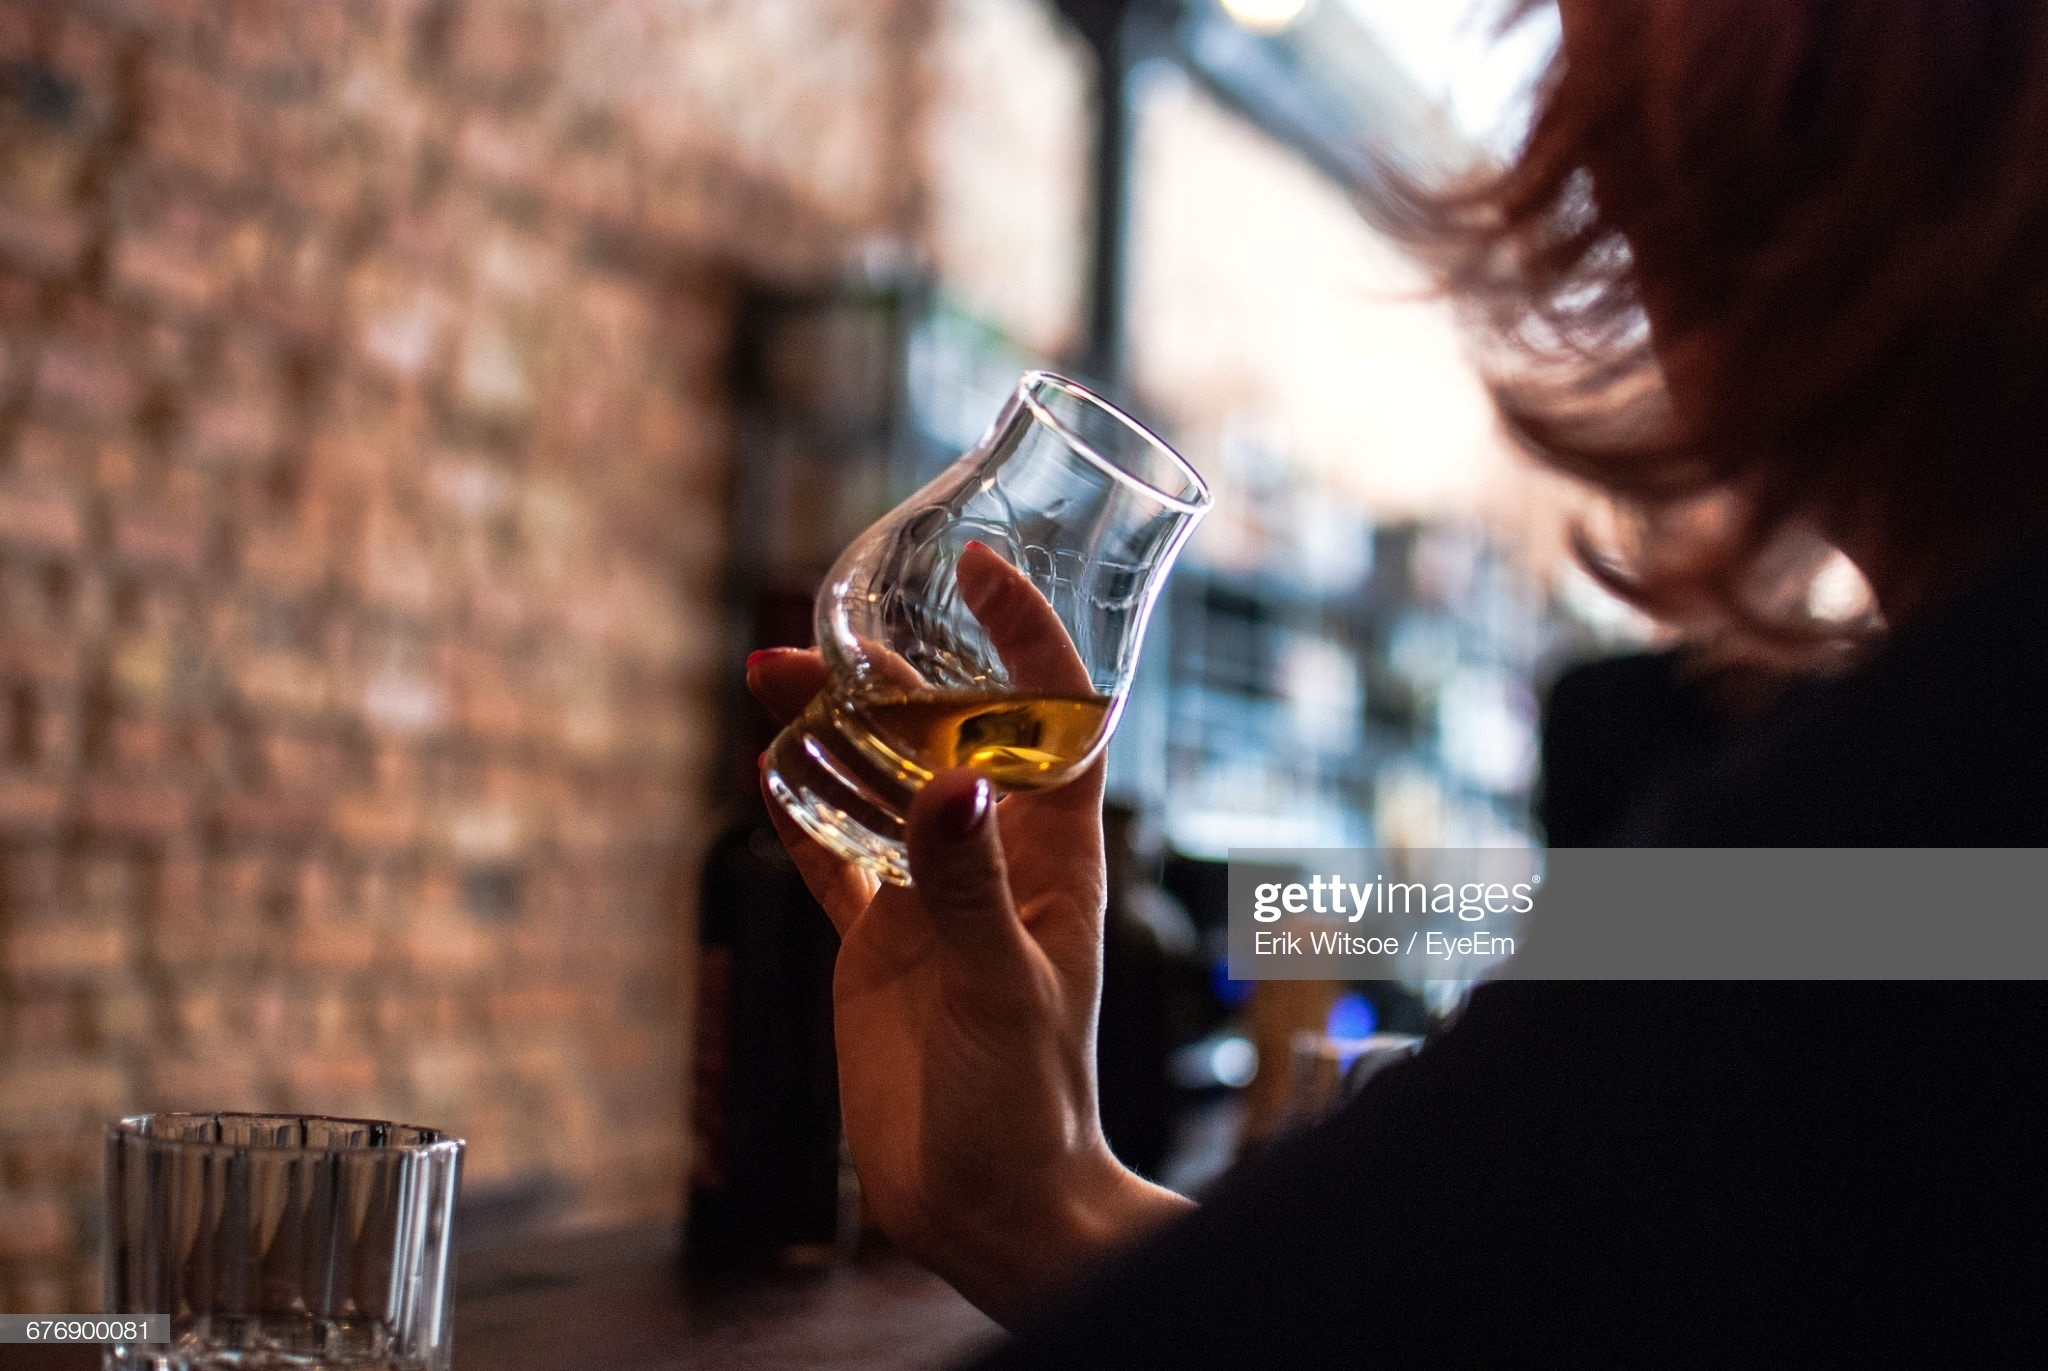whiskey: (745, 383, 1193, 863)
